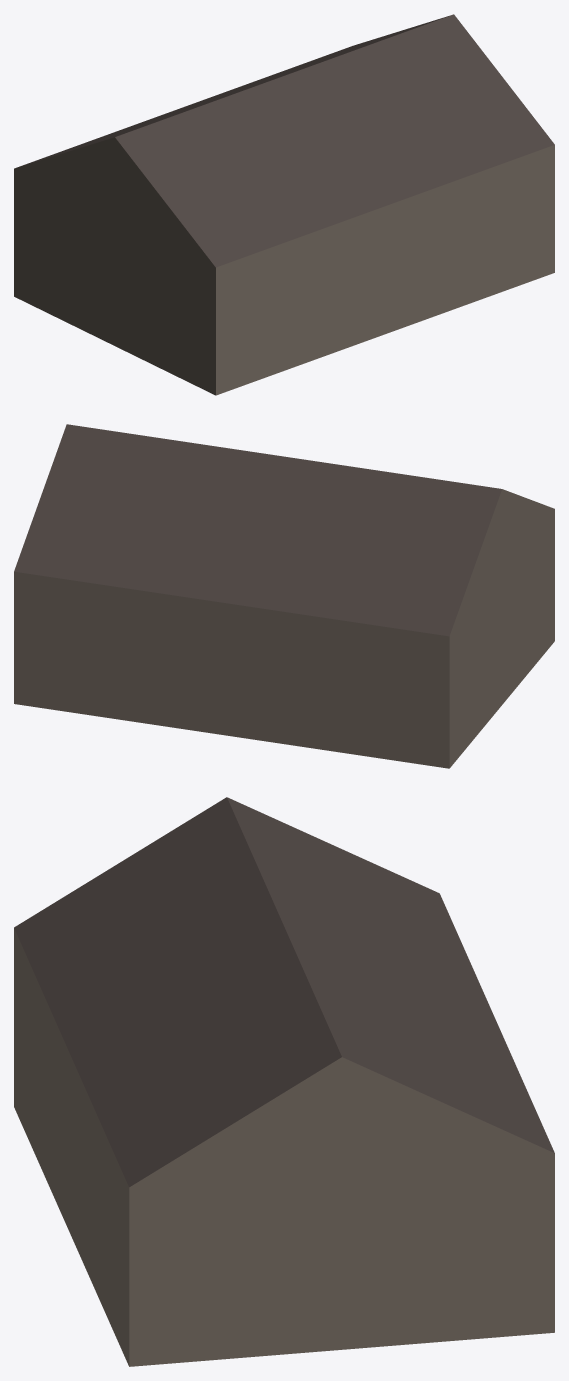
The picture shows the model from 3 angles, top to bottom: view 1: azimuth 30°, elevation 25°; view 2: azimuth 150°, elevation 25°; view 3: azimuth 270°, elevation 25°; orthographic projection. The views are drawn at different scales.
Parts seen in each view (by area): view 1: HP-w1197715831; view 2: HP-w1197715831; view 3: HP-w1197715831.
Boxes of the visible parts, x1,y1,x2,y2 form: HP-w1197715831: (14,14,554,395); HP-w1197715831: (14,424,554,768); HP-w1197715831: (14,797,554,1366).
Size of the model in its own units: 21.1 by 9.79 by 16.4.
